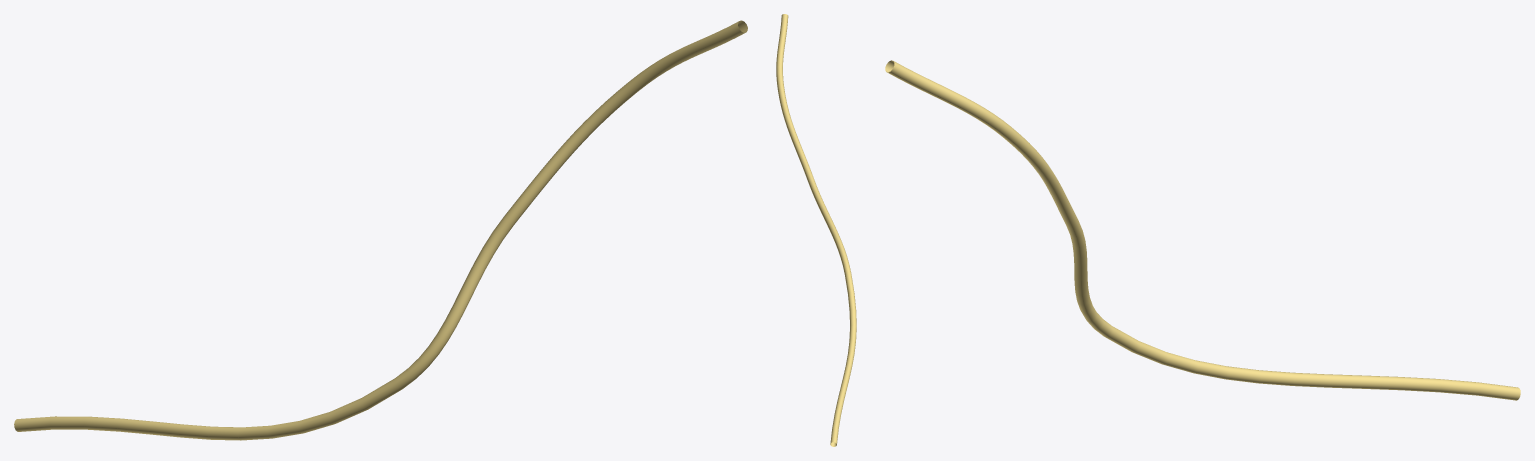
3 views of the same model, side by side, from view 1: azimuth 30°, elevation 25°; view 2: azimuth 150°, elevation 25°; view 3: azimuth 270°, elevation 25° (orthographic). The views are drawn at different scales.
Parts seen in each view (by area): view 1: ZA_bedd408cb3ab23f7; view 2: ZA_bedd408cb3ab23f7; view 3: ZA_bedd408cb3ab23f7.
Part boxes in pixels (x1=…): ZA_bedd408cb3ab23f7: x1=14, y1=20, x2=747, y2=440; ZA_bedd408cb3ab23f7: x1=776, y1=14, x2=856, y2=446; ZA_bedd408cb3ab23f7: x1=885, y1=60, x2=1520, y2=400.
Bounding box in the file's own units: 0.0363 × 0.0443 × 0.0473.
